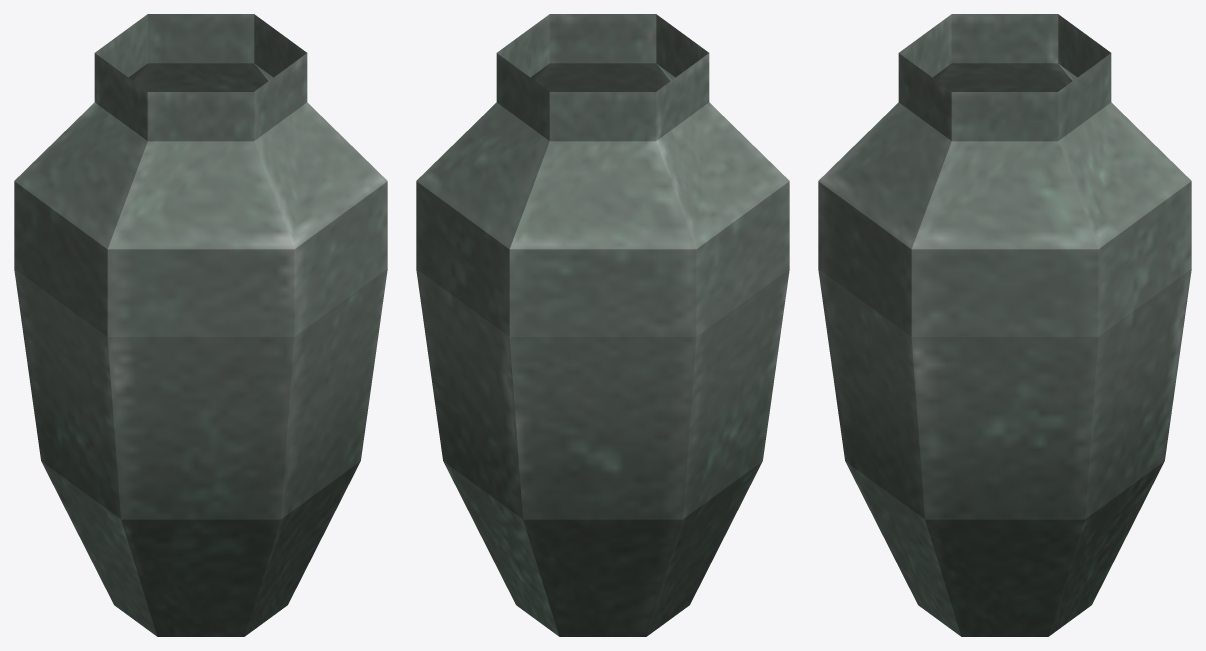
Rendered from Vase_1.fbx.
3 renders of one model, left to right at view 1: azimuth 30°, elevation 25°; view 2: azimuth 150°, elevation 25°; view 3: azimuth 270°, elevation 25°, orthographic.
Parts seen in each view (by area): view 1: Vase_1; view 2: Vase_1; view 3: Vase_1.
Boxes of the visible parts, x1=… form: Vase_1: x1=14, y1=14, x2=387, y2=636; Vase_1: x1=416, y1=14, x2=789, y2=636; Vase_1: x1=818, y1=14, x2=1191, y2=636.
Size of the model in its own units: 15.27 by 28.76 by 17.63.
